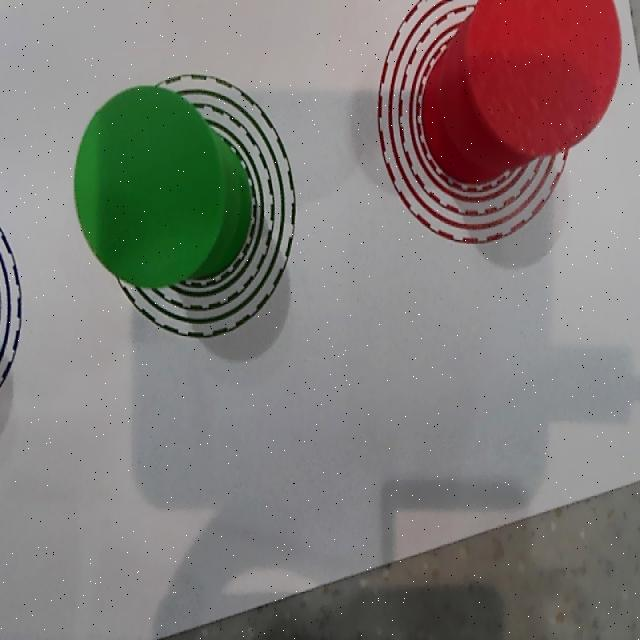g: (75, 86, 222, 286)
